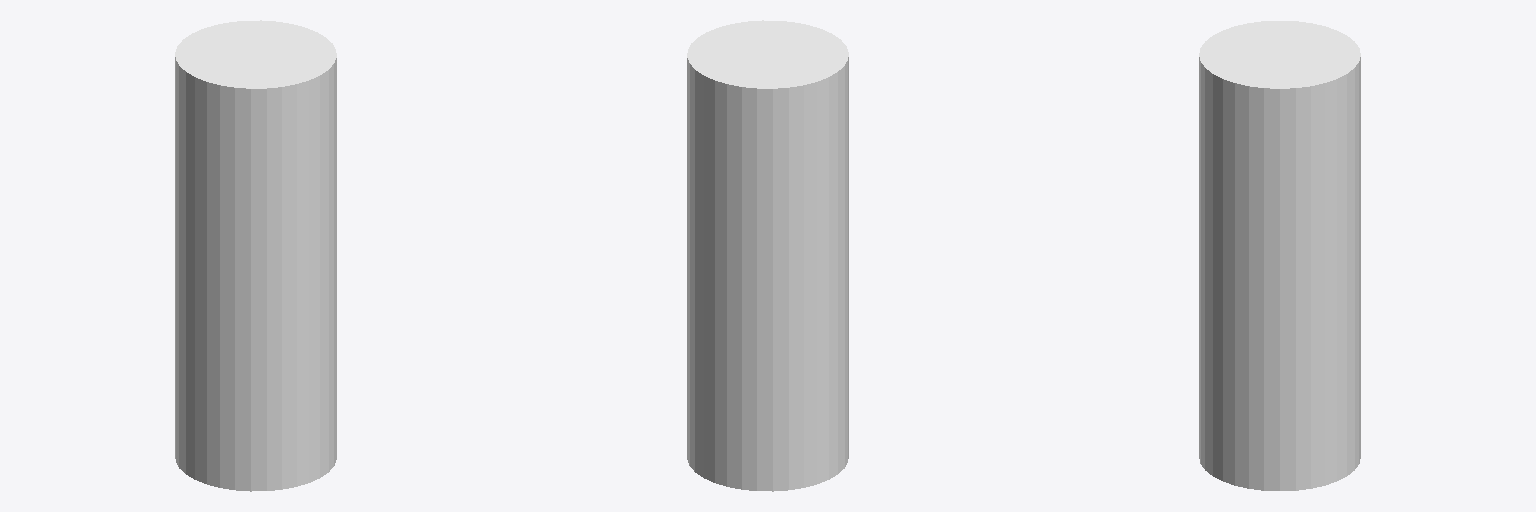
The robot description file, URDF, robot "bottle":
<?xml version="1.0" encoding="utf-8"?>

<robot name="bottle">

    <!--
      Material colors
    -->

    <!-- Basic colors -->
  <material name="Black">
    <color rgba="0.0 0.0 0.0 1.0"/>
  </material>
  <material name="Red">
    <color rgba="0.8 0.0 0.0 1.0"/>
  </material>
  <material name="White">
    <color rgba="1.0 1.0 1.0 1.0"/>
  </material>
  <material name="Silver">
    <color rgba="0.753 0.753 0.753 1.0"/>
  </material>

    <!--
    Base
  -->

  <!-- Base link -->
  <link name="link_base">
    <visual>
      <geometry>
        <cylinder radius="0.035" length="0.192"/>  <!-- 충돌 모델 단순화 -->
      </geometry>
      <origin rpy="0 0 0" xyz="0 0 0"/>
      <material name="White"/>
    </visual>
    <collision>
      <geometry>
        <cylinder radius="0.035" length="0.192"/>  <!-- 충돌 모델 단순화 -->
      </geometry>
      <origin rpy="0 0 0" xyz="0 0 0"/>
    </collision>
    <inertial>
      <origin rpy="0 0 0" xyz="0.0 0.0 -0.03"/>ㄱ
      <mass value="1.0"/>
      <inertia ixx="0.0039" ixy="0" ixz="0" iyy="0.0039" iyz="0" izz="0.00049"/>
    </inertial>
  </link>
</robot>

--- Facts derived from the render (not from the file) ---
3 views of the same robot in one strip: view 1: azimuth 30°, elevation 25°; view 2: azimuth 150°, elevation 25°; view 3: azimuth 270°, elevation 25° (orthographic).
Model bottle with 1 links and 0 joints (none), rooted at link_base, posed every joint at zero.
Links seen in each view (by area): view 1: link_base; view 2: link_base; view 3: link_base.
Link boxes in pixels (x1,y1,x2,y2): link_base: (175, 20, 336, 491); link_base: (687, 20, 848, 491); link_base: (1199, 21, 1360, 490).
Size in the robot's own frame: 0.07 by 0.07 by 0.192 metres.
Geometry: primitives only (box / cylinder / sphere), no mesh files.
